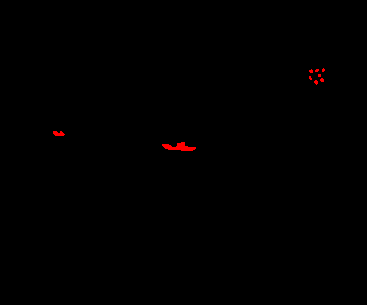Target: (162, 142, 196, 151), (53, 131, 65, 136), (314, 80, 318, 85), (309, 69, 313, 73), (320, 78, 324, 82), (322, 68, 325, 72), (315, 69, 319, 72), (309, 76, 312, 80), (318, 74, 321, 77)
